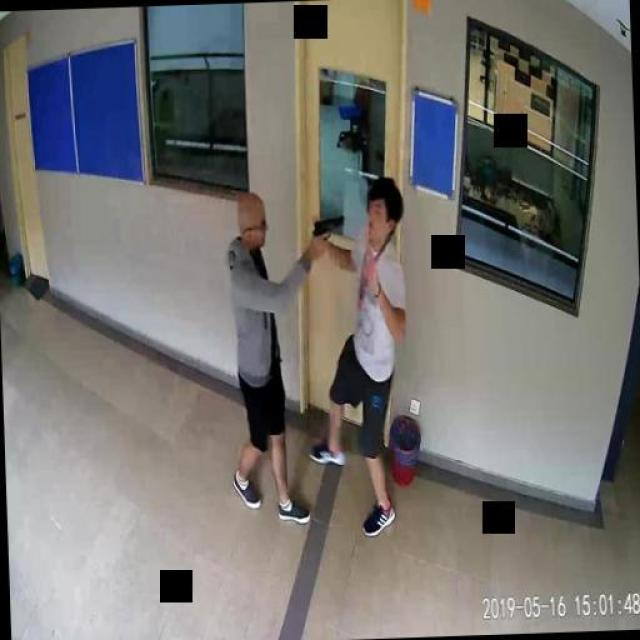gun: (311, 214, 341, 252)
